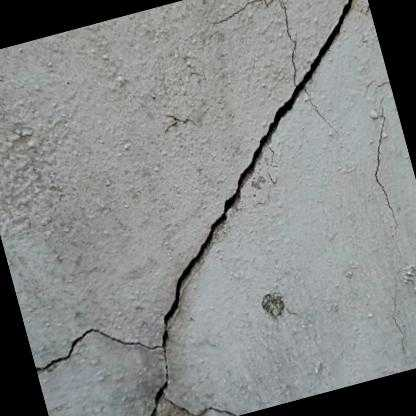crack: (35, 0, 352, 416)
